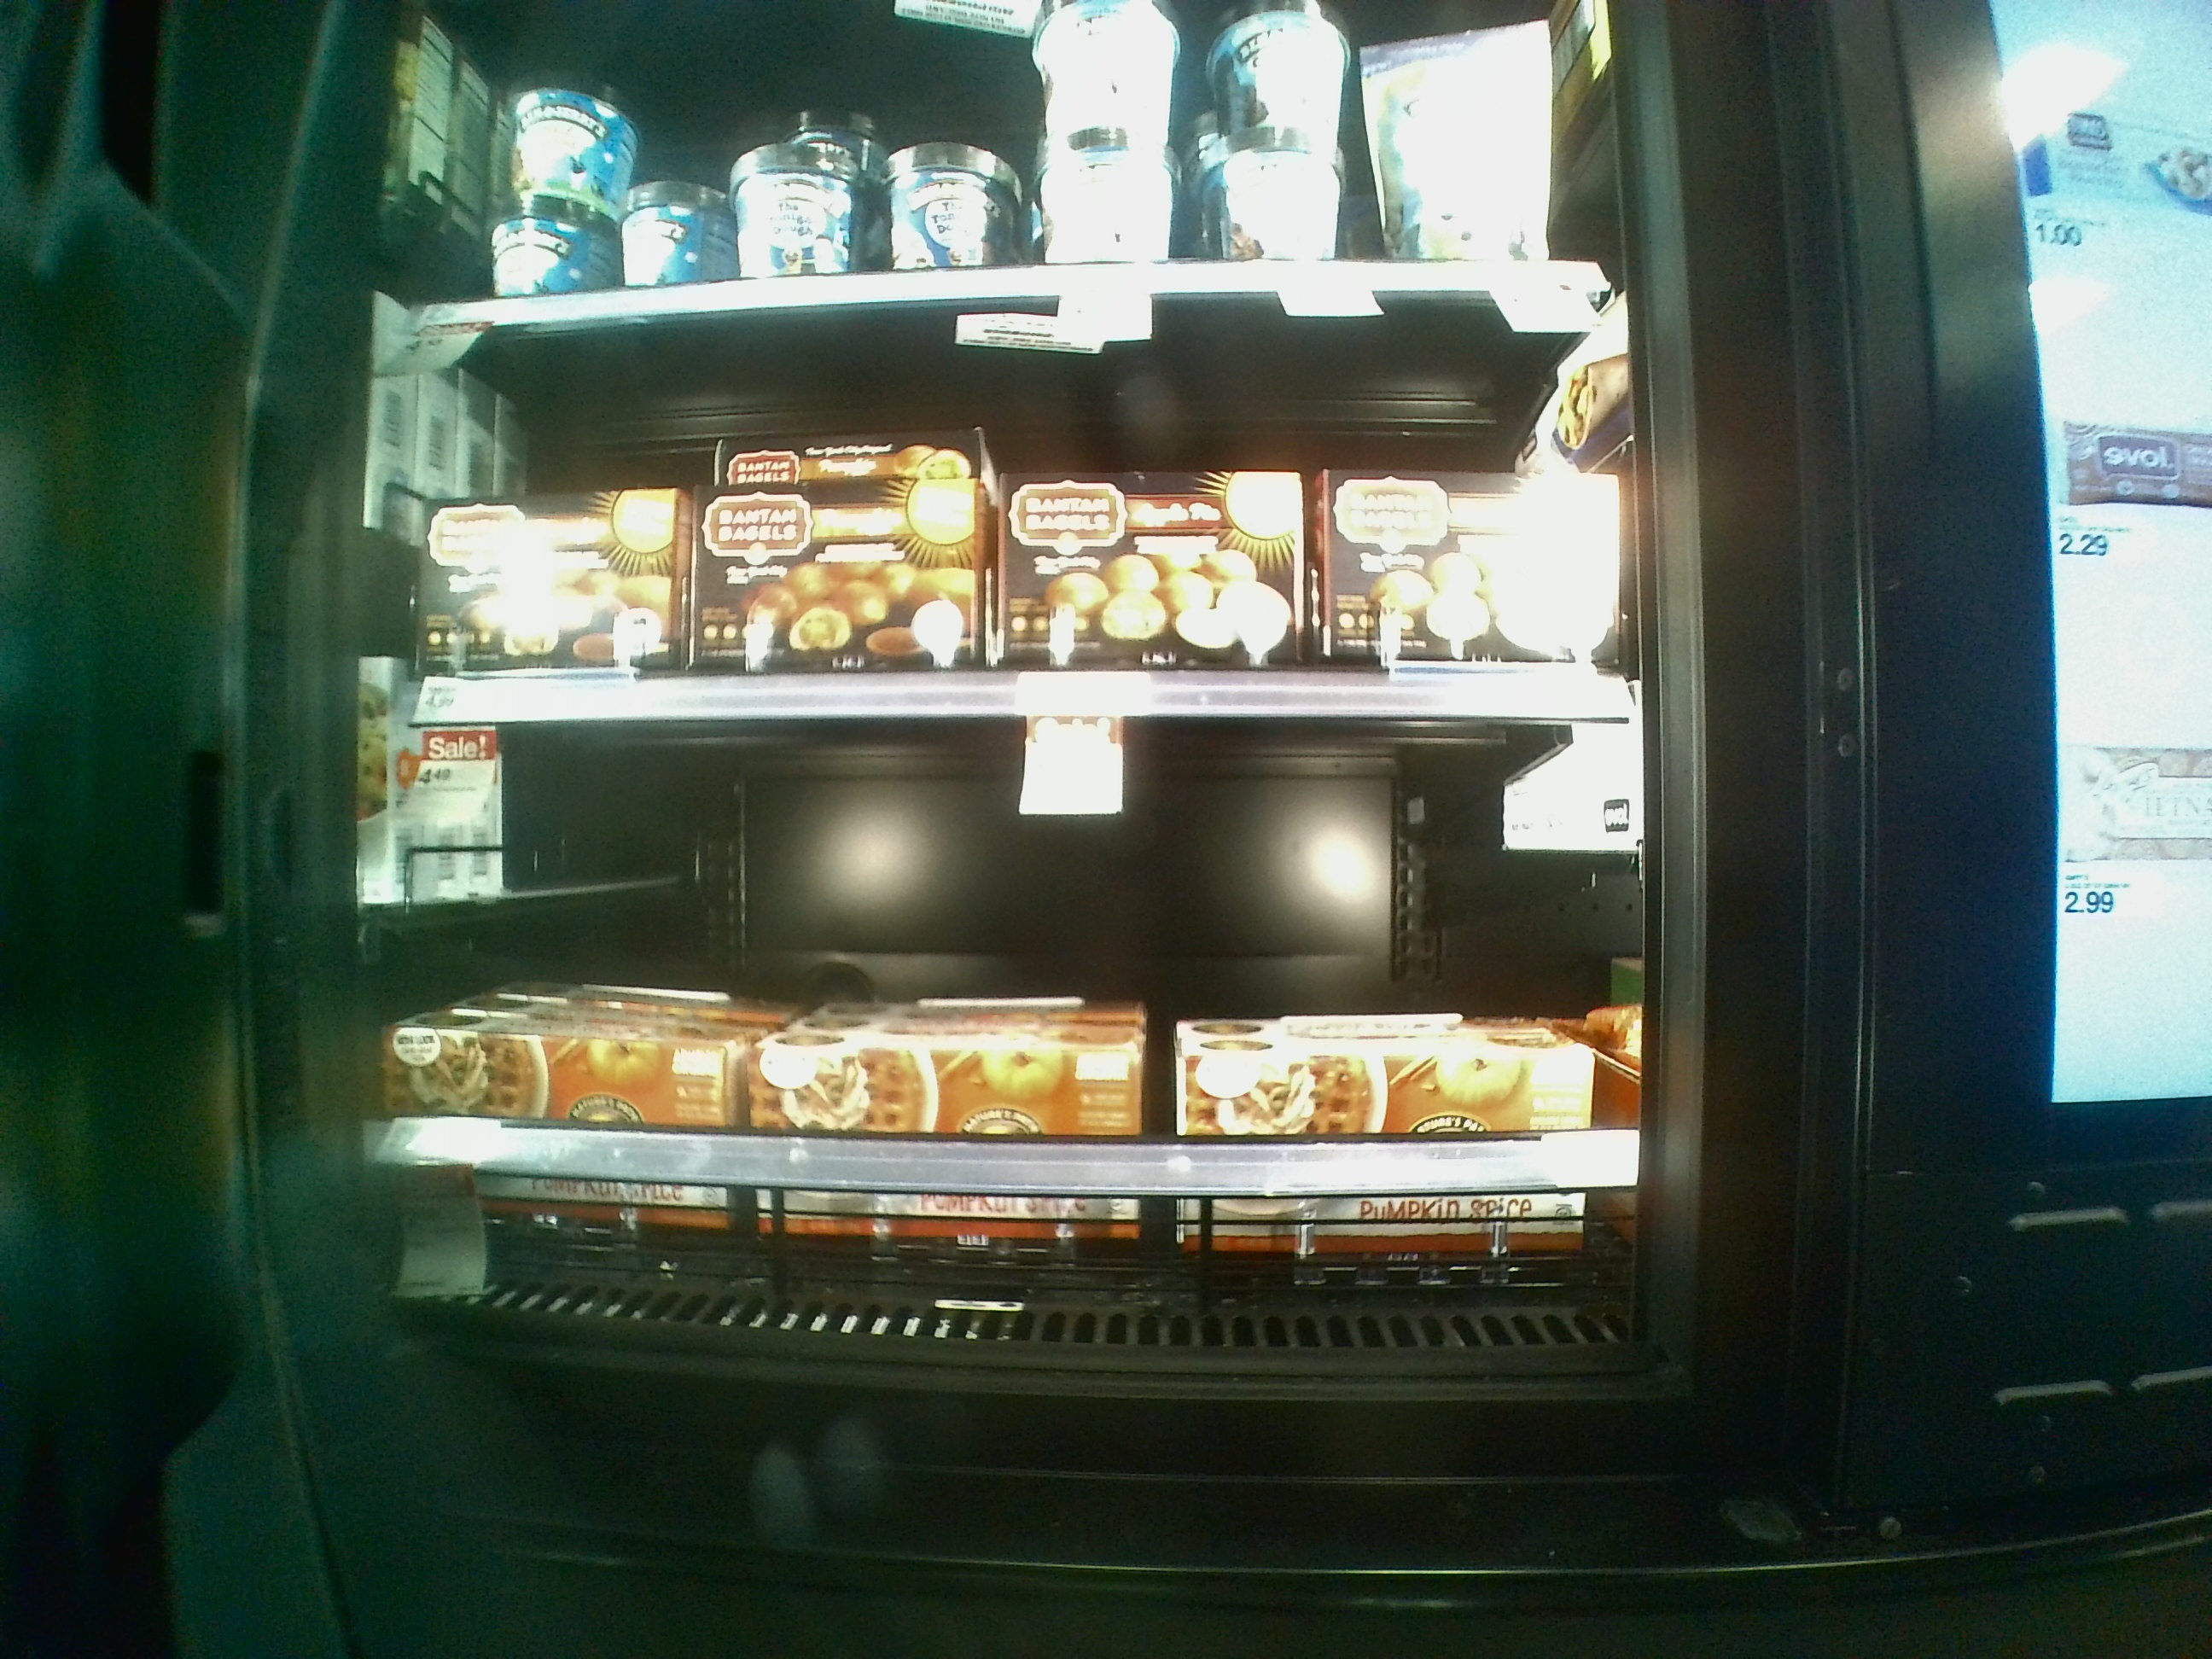shelf: (383, 716, 1649, 1370), (399, 314, 1634, 737)
